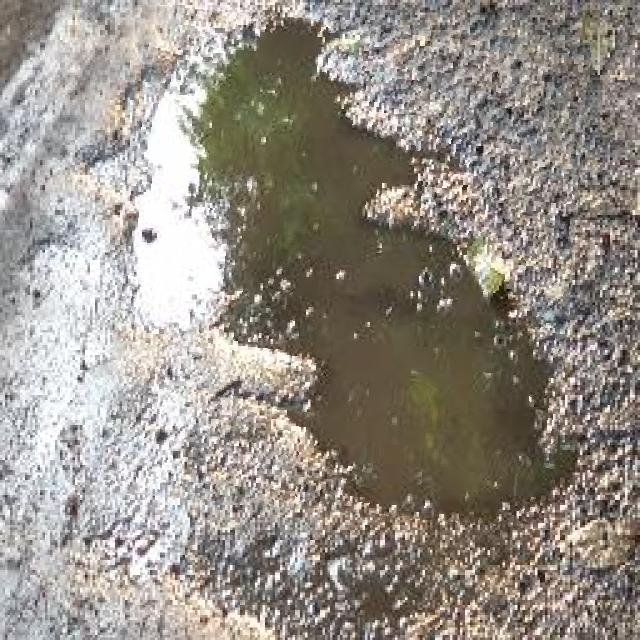puddle: (112, 15, 584, 522)
